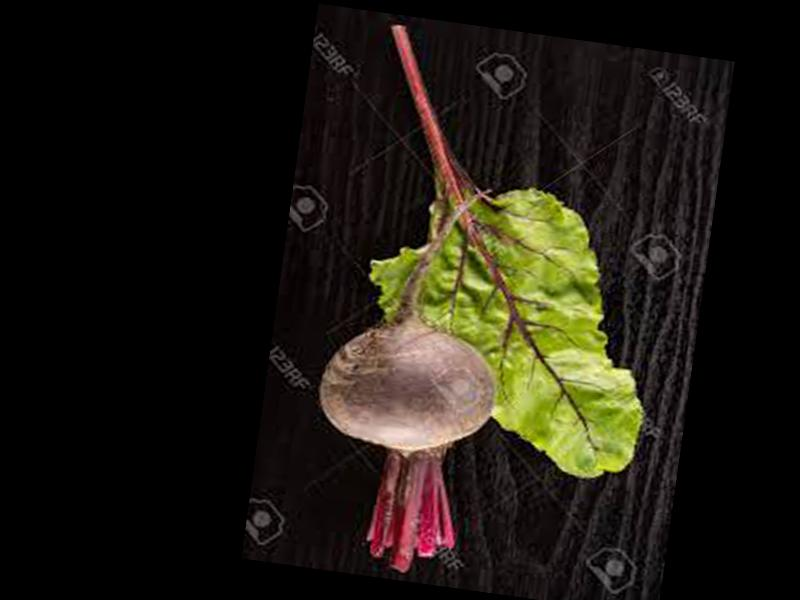Beet: (296, 170, 523, 582)
